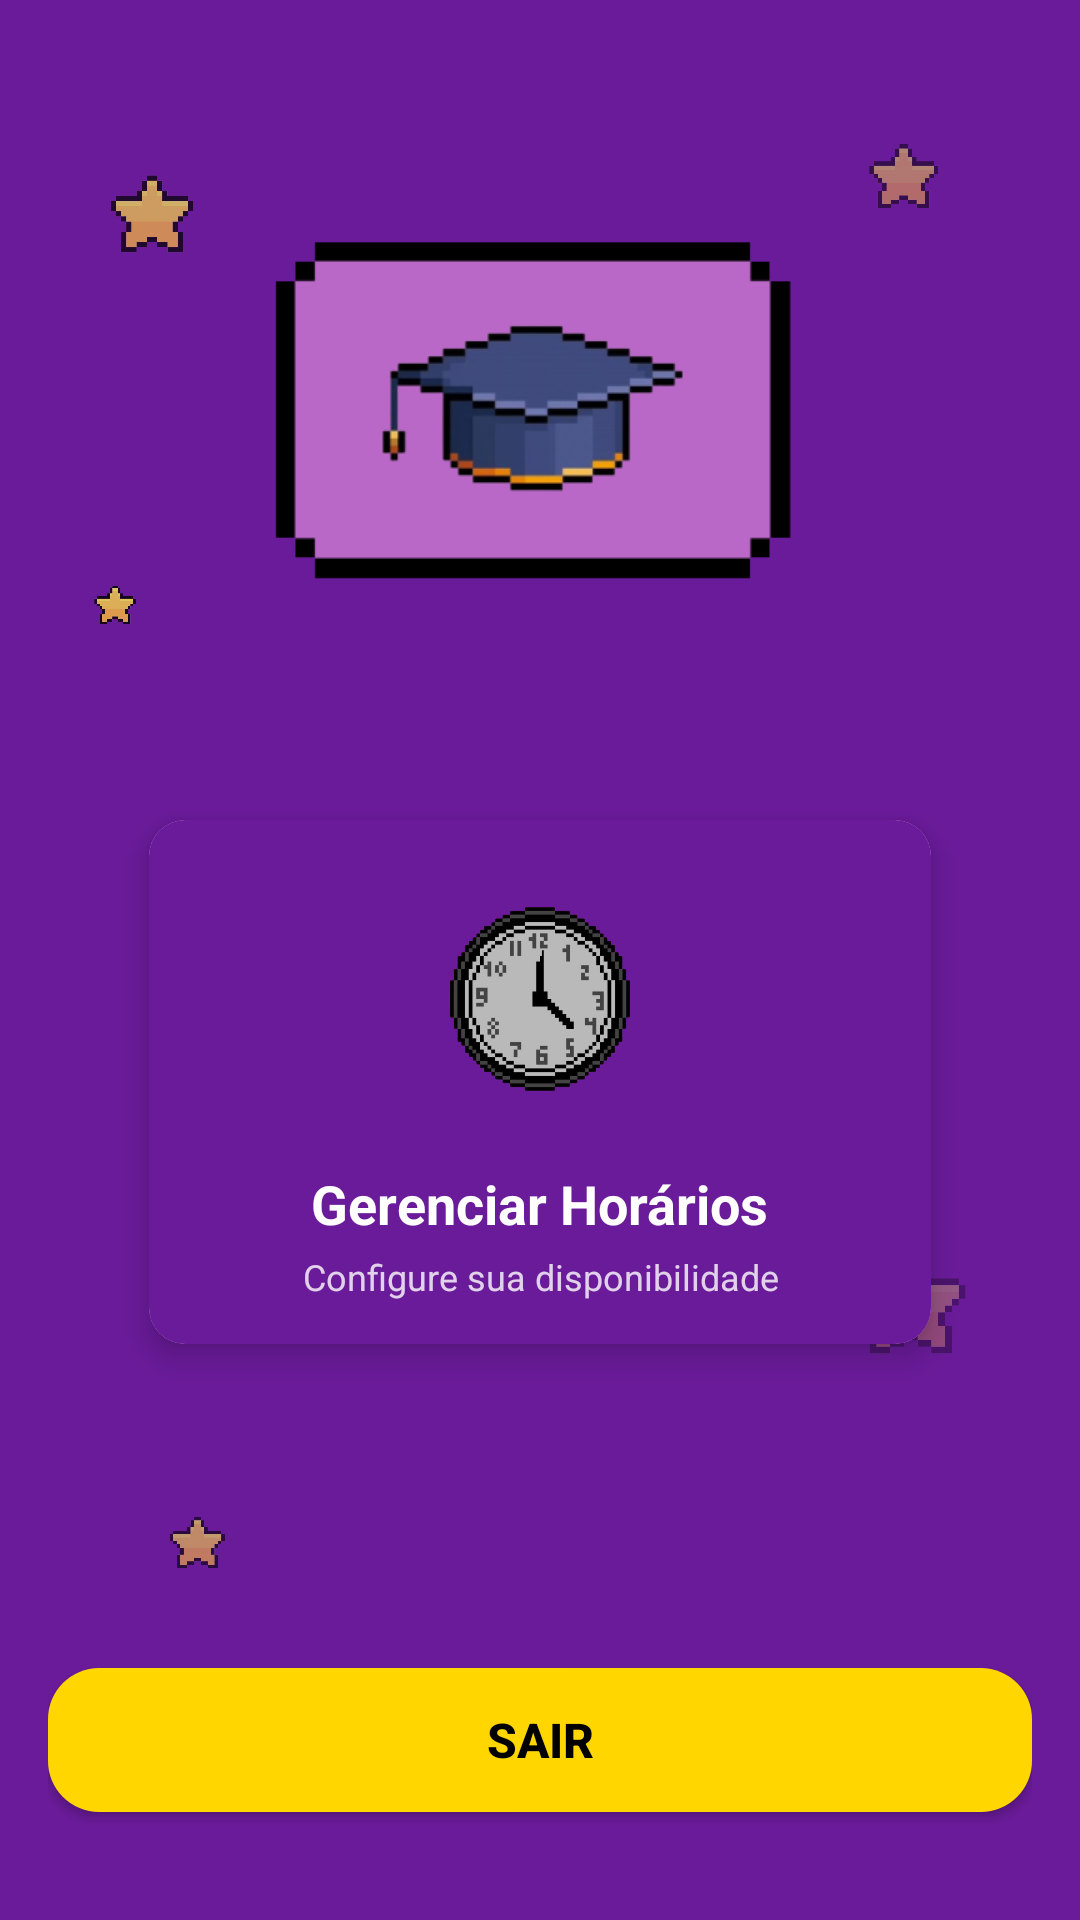

Named icons in this screenshot (1080*1920) and their centers, point (x, y):
Ícone de agendamentos: point (540, 999)
